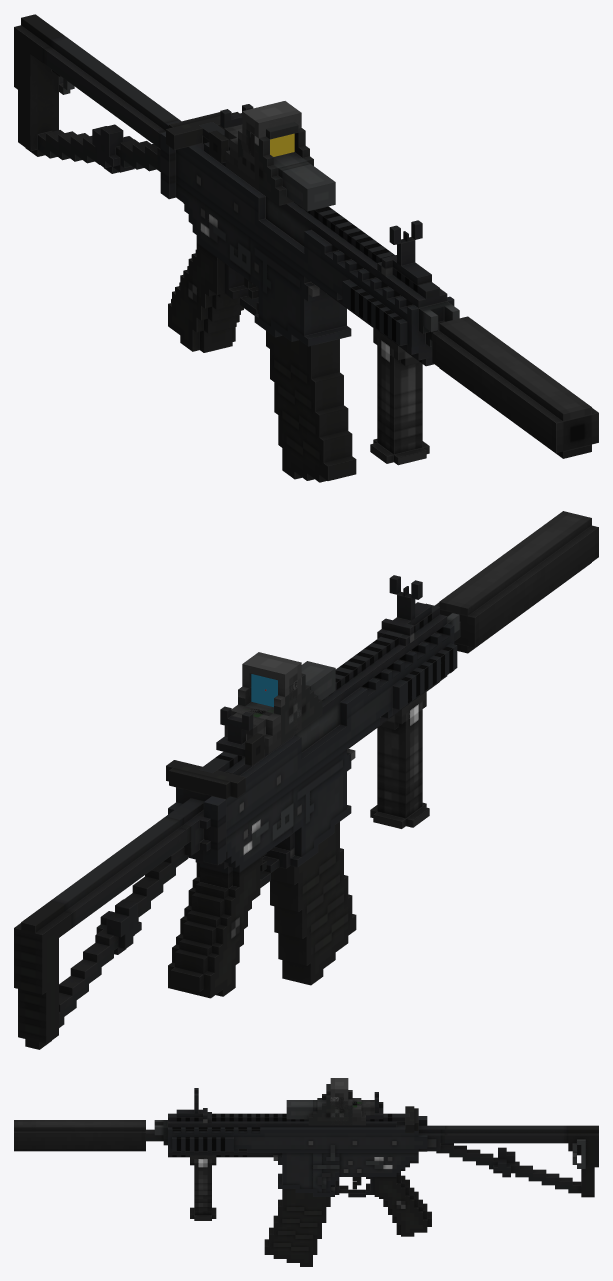
Rendered from RD_KACPDW.glb.
3 renders of one model, top to bottom at view 1: azimuth 30°, elevation 25°; view 2: azimuth 150°, elevation 25°; view 3: azimuth 270°, elevation 25°, orthographic. The views are drawn at different scales.
Parts seen in each view (by area): view 1: KACPDW, SILENCER_6X6, KACPDW_CLIP, GRIP1, SCOPE_EOTECH, KACPDW_SCOPE, SCOPE_HOLOSUN, KACPDW_BOLT; view 2: KACPDW, SILENCER_6X6, KACPDW_CLIP, GRIP1, SCOPE_HOLOSUN, KACPDW_SCOPE, SCOPE_EOTECH, KACPDW_BOLT; view 3: KACPDW, SILENCER_6X6, KACPDW_CLIP, SCOPE_EOTECH, GRIP1, SCOPE_HOLOSUN, KACPDW_SCOPE, SCOPE_AIMPOINT, KACPDW_BOLT.
Part boxes in pixels (bbox=[...]): KACPDW: bbox=[14, 14, 459, 366]; SILENCER_6X6: bbox=[432, 316, 598, 458]; KACPDW_CLIP: bbox=[266, 331, 356, 482]; GRIP1: bbox=[370, 327, 429, 465]; SCOPE_EOTECH: bbox=[238, 122, 335, 211]; KACPDW_SCOPE: bbox=[209, 104, 431, 285]; SCOPE_HOLOSUN: bbox=[225, 101, 301, 190]; KACPDW_BOLT: bbox=[166, 112, 239, 150]; KACPDW: bbox=[14, 603, 460, 1049]; SILENCER_6X6: bbox=[435, 511, 598, 653]; KACPDW_CLIP: bbox=[270, 822, 356, 985]; GRIP1: bbox=[370, 691, 429, 828]; SCOPE_HOLOSUN: bbox=[231, 652, 301, 753]; KACPDW_SCOPE: bbox=[216, 575, 431, 765]; SCOPE_EOTECH: bbox=[238, 661, 335, 744]; KACPDW_BOLT: bbox=[166, 760, 245, 799]; KACPDW: bbox=[146, 1113, 598, 1236]; SILENCER_6X6: bbox=[14, 1120, 145, 1151]; KACPDW_CLIP: bbox=[264, 1189, 330, 1266]; SCOPE_EOTECH: bbox=[286, 1084, 352, 1125]; GRIP1: bbox=[190, 1155, 216, 1220]; SCOPE_HOLOSUN: bbox=[330, 1078, 365, 1125]; KACPDW_SCOPE: bbox=[176, 1088, 383, 1123]; SCOPE_AIMPOINT: bbox=[335, 1097, 374, 1115]; KACPDW_BOLT: bbox=[396, 1106, 418, 1132].
Bounding box in the file's own units: 0.0984 × 0.4428 × 1.31.
Materials: 9 (9 with a texture image).
